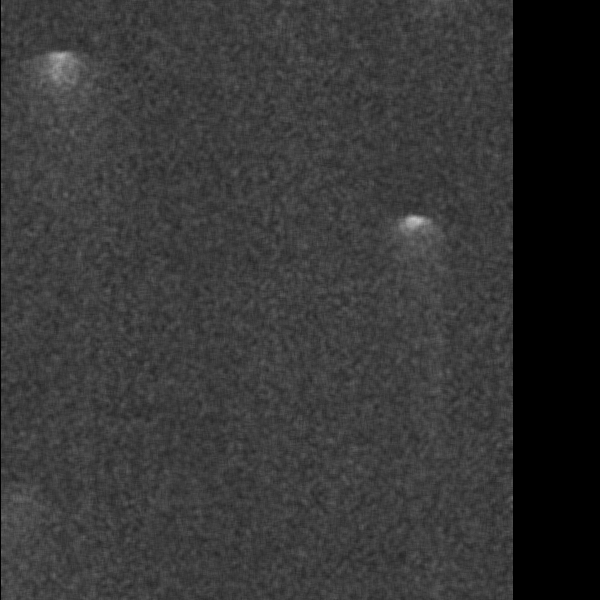spark: (351, 353, 381, 415), (23, 575, 83, 600)
